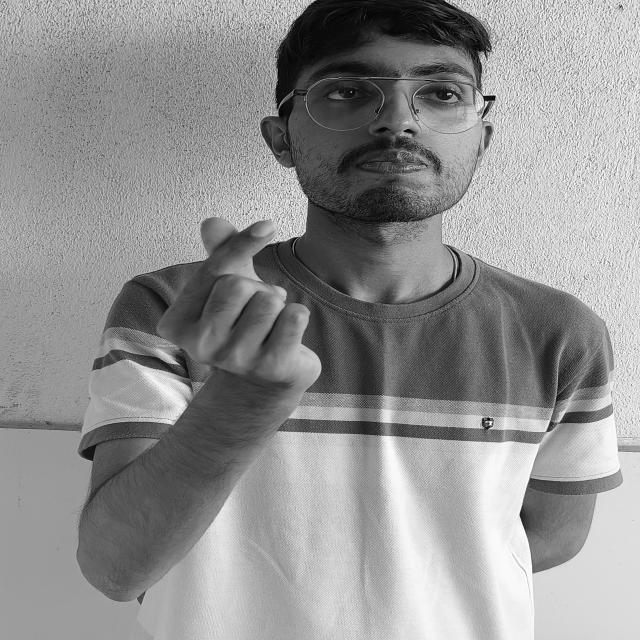Grattitude: (155, 210, 357, 406)
